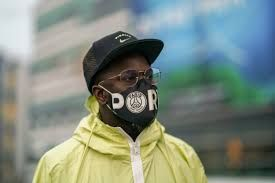with-mask: (91, 57, 170, 131)
